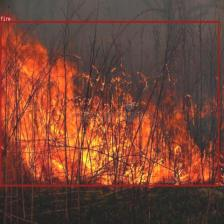fire: (0, 21, 219, 186)
